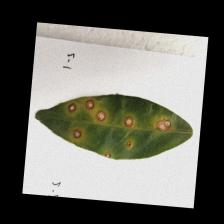canker: (63, 94, 173, 156)
